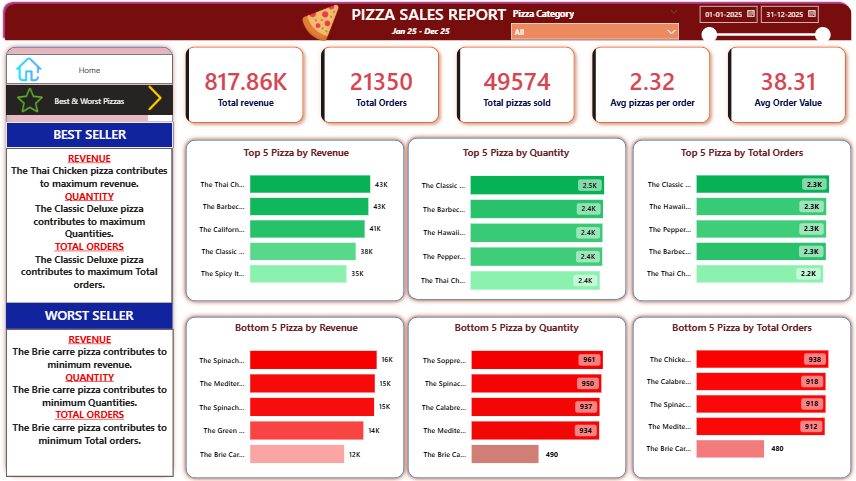

The dashboard page shown, as its layout file describes it:
{"tool":"powerbi","page":{"name":"Best & Worst Pizzas","canvas":[1500,820],"ordinal":1},"visuals":[{"type":"cardVisual","fields":{"Data":["pizza_sales.Total revenue","pizza_sales.Total Orders","pizza_sales.Total pizzas sold","pizza_sales.Avg pizzas per order","pizza_sales.Avg Order Value"]},"box":[315,63.3,1163.3,186.7],"z":0},{"type":"shape","box":[37.1,15.7,1424.3,74.3],"z":1000},{"type":"textbox","box":[602.9,15.7,292.9,74.3],"z":2000},{"type":"textbox","box":[680,52.9,112.9,37.1],"z":3000},{"type":"image","box":[537.1,21.4,65.7,62.9],"z":4000},{"type":"shape","box":[336.7,240,380,285],"z":5000},{"type":"shape","box":[37.1,84.3,294.3,731.4],"z":15000},{"type":"textbox","box":[44.3,218.6,278.6,42.9],"z":16000},{"type":"textbox","box":[44.3,261.4,277.1,258.6],"z":17000},{"type":"textbox","box":[44.3,520,277.1,42.9],"z":18000},{"type":"textbox","box":[44.3,562.9,278.6,245.7],"z":19000},{"type":"slicer","fields":{"Values":["pizza_sales.pizza_category"]},"box":[877.1,21.4,300,62.9],"z":20000},{"type":"slicer","fields":{"Values":["pizza_sales.order_date"]},"box":[1188.6,15.7,238.6,90],"z":21000},{"type":"shape","box":[707.1,237.1,380,285.7],"z":21001},{"type":"shape","box":[1081.7,240,380,285],"z":21002},{"type":"shape","box":[336.7,535,380,285],"z":21003},{"type":"shape","box":[706.7,535,380,285],"z":21004},{"type":"shape","box":[1081.7,535,380,285],"z":21005},{"type":"barChart","title":"Top 5 Pizza by Revenue","fields":{"Category":["pizza_sales.pizza_name"],"Y":["pizza_sales.Total revenue"]},"box":[350,258.6,357.1,248.6],"z":21006},{"type":"barChart","title":"Bottom 5 Pizza by Revenue","fields":{"Category":["pizza_sales.pizza_name"],"Y":["pizza_sales.Total revenue"]},"box":[350,550,357.1,258.6],"z":21007},{"type":"barChart","title":"Top 5 Pizza by Quantity","fields":{"Category":["pizza_sales.pizza_name"],"Y":["pizza_sales.Total pizzas sold"]},"box":[718.6,258.6,352.9,261.4],"z":21008},{"type":"barChart","title":"Bottom 5 Pizza by Quantity","fields":{"Category":["pizza_sales.pizza_name"],"Y":["pizza_sales.Total pizzas sold"]},"box":[720,550,351.4,258.6],"z":21009},{"type":"barChart","title":"Top 5 Pizza by Total Orders","fields":{"Category":["pizza_sales.pizza_name"],"Y":["pizza_sales.Total Orders"]},"box":[1094.3,258.6,352.9,248.6],"z":21010},{"type":"barChart","title":"Bottom 5 Pizza by Total Orders","fields":{"Category":["pizza_sales.pizza_name"],"Y":["pizza_sales.Total Orders"]},"box":[1094.3,550,352.9,248.6],"z":21011},{"type":"pageNavigator","box":[44.3,157.1,278.6,50],"z":21012},{"type":"pageNavigator","box":[44.3,105.7,278.6,50],"z":21013},{"type":"image","box":[262.9,157.1,60,42.9],"z":21014},{"type":"image","box":[55.7,110,55.7,41.4],"z":21015},{"type":"image","box":[62.9,152.9,42.9,57.1],"z":21016}]}

Visuals, with their boxes in screenshot pixels (x1, y1, x2, y2), scaled from the page's 1500x820 canvas onto the 856x481 screenshot:
cardVisual - pizza_sales.Total revenue x pizza_sales.Total Orders: l=180, t=37, r=844, b=147
shape: l=21, t=9, r=834, b=53
textbox: l=344, t=9, r=511, b=53
textbox: l=388, t=31, r=452, b=53
image: l=307, t=13, r=344, b=49
shape: l=192, t=141, r=409, b=308
shape: l=21, t=49, r=189, b=478
textbox: l=25, t=128, r=184, b=153
textbox: l=25, t=153, r=183, b=305
textbox: l=25, t=305, r=183, b=330
textbox: l=25, t=330, r=184, b=474
slicer - pizza_sales.pizza_category: l=501, t=13, r=672, b=49
slicer - pizza_sales.order_date: l=678, t=9, r=814, b=62
shape: l=404, t=139, r=620, b=307
shape: l=617, t=141, r=834, b=308
shape: l=192, t=314, r=409, b=480
shape: l=403, t=314, r=620, b=480
shape: l=617, t=314, r=834, b=480
"Top 5 Pizza by Revenue" barChart: l=200, t=152, r=404, b=298
"Bottom 5 Pizza by Revenue" barChart: l=200, t=323, r=404, b=474
"Top 5 Pizza by Quantity" barChart: l=410, t=152, r=611, b=305
"Bottom 5 Pizza by Quantity" barChart: l=411, t=323, r=611, b=474
"Top 5 Pizza by Total Orders" barChart: l=624, t=152, r=826, b=298
"Bottom 5 Pizza by Total Orders" barChart: l=624, t=323, r=826, b=468
pageNavigator: l=25, t=92, r=184, b=121
pageNavigator: l=25, t=62, r=184, b=91
image: l=150, t=92, r=184, b=117
image: l=32, t=65, r=64, b=89
image: l=36, t=90, r=60, b=123
